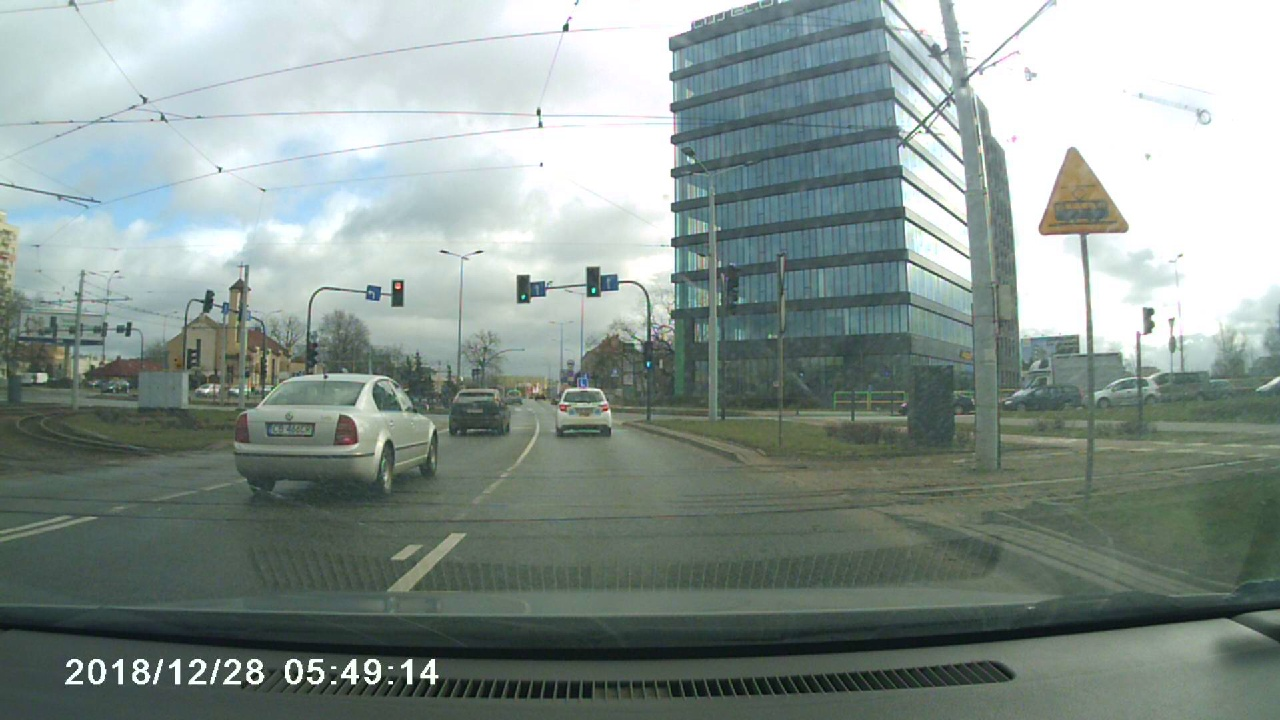A21: (1039, 148, 1131, 240)
